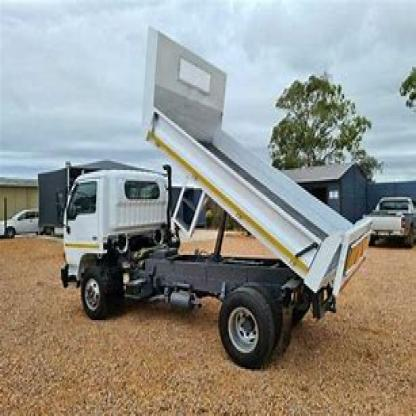dump_truck: (59, 20, 376, 372)
